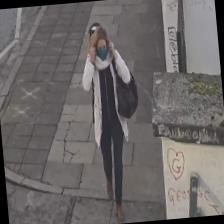person: (78, 24, 142, 224)
